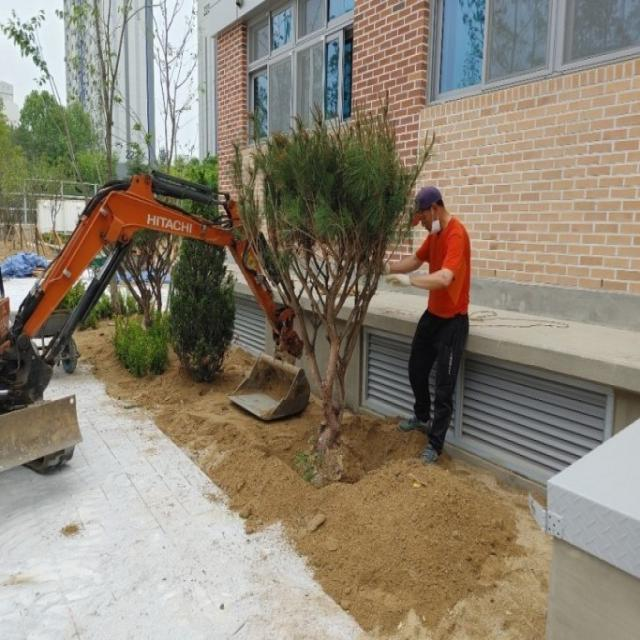excavator: (0, 167, 310, 473)
plant: (230, 90, 436, 486), (0, 0, 148, 322), (165, 171, 238, 383), (116, 230, 176, 326), (114, 315, 170, 377)
